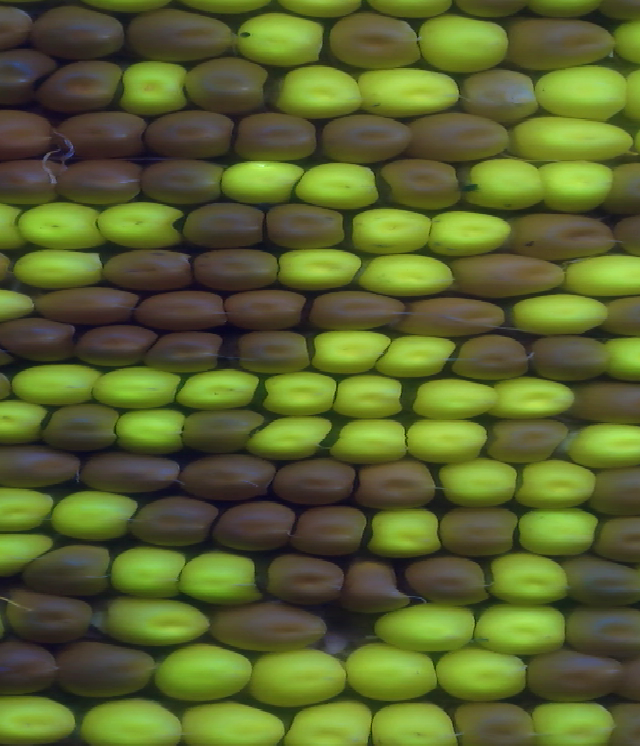fluorescent: (501, 113, 640, 162), (151, 641, 257, 702), (248, 651, 350, 714), (411, 14, 514, 74), (344, 641, 441, 703), (359, 66, 467, 121), (436, 643, 531, 704), (174, 699, 296, 746), (73, 697, 187, 746), (103, 595, 217, 644), (371, 604, 481, 654), (233, 11, 331, 66), (534, 157, 621, 218), (107, 543, 196, 600), (470, 603, 571, 653), (526, 64, 631, 112), (278, 66, 369, 121), (464, 159, 553, 215), (512, 292, 614, 340), (50, 491, 139, 546), (484, 555, 574, 606), (90, 361, 185, 408), (512, 508, 602, 557), (515, 456, 598, 509), (425, 213, 518, 260), (359, 249, 450, 297), (177, 553, 256, 608), (295, 159, 380, 210), (8, 361, 104, 406), (264, 246, 364, 289), (369, 506, 447, 561), (435, 457, 520, 507), (406, 416, 491, 466), (489, 376, 579, 423), (3, 244, 103, 286), (249, 411, 336, 459), (117, 59, 190, 116), (0, 691, 81, 742), (367, 702, 460, 746), (280, 703, 375, 746), (406, 379, 505, 420), (95, 201, 184, 246), (17, 203, 104, 249), (219, 158, 304, 204), (351, 208, 432, 256), (375, 335, 459, 381), (109, 406, 187, 454), (177, 368, 267, 409), (534, 700, 614, 746), (564, 421, 640, 469), (561, 254, 640, 300), (260, 372, 339, 418), (332, 416, 410, 461), (309, 329, 389, 372), (334, 374, 408, 418), (0, 531, 54, 576), (0, 487, 55, 531), (0, 399, 51, 446), (0, 283, 53, 324), (604, 335, 640, 385)
nonfluorescent: (320, 12, 434, 73), (211, 599, 330, 653), (129, 7, 239, 64), (54, 644, 156, 702), (500, 20, 622, 66), (0, 588, 100, 644), (523, 649, 628, 702), (32, 4, 128, 60), (448, 253, 567, 297), (33, 56, 121, 115), (512, 214, 617, 263), (213, 498, 300, 556), (24, 539, 113, 595), (403, 113, 508, 160), (134, 496, 222, 552), (103, 246, 198, 297), (525, 333, 617, 385), (318, 113, 413, 163), (384, 156, 467, 213), (236, 109, 323, 163), (140, 158, 226, 212), (438, 507, 527, 558), (403, 297, 512, 338), (407, 557, 498, 606), (183, 203, 271, 253), (450, 328, 533, 381), (36, 285, 143, 326), (561, 557, 640, 612), (85, 453, 181, 498), (188, 63, 274, 113), (61, 160, 152, 207), (75, 322, 158, 373), (352, 461, 442, 508), (337, 560, 415, 614), (263, 556, 348, 605), (306, 288, 410, 328), (563, 600, 640, 654), (463, 70, 545, 119), (141, 324, 221, 373), (148, 115, 236, 159), (183, 458, 279, 498), (264, 205, 349, 250), (58, 116, 149, 158), (232, 329, 311, 377), (457, 702, 543, 746), (0, 449, 88, 492), (491, 420, 573, 463), (290, 509, 369, 553), (0, 319, 79, 363), (186, 410, 261, 456), (141, 293, 229, 332), (569, 376, 640, 424), (273, 463, 356, 504), (0, 643, 65, 695), (43, 405, 123, 447), (195, 251, 280, 289), (0, 48, 58, 103), (0, 161, 68, 205), (0, 111, 62, 159), (228, 293, 305, 329), (592, 467, 640, 521), (596, 508, 640, 566), (598, 296, 640, 339), (608, 701, 640, 746), (594, 1, 640, 22)
